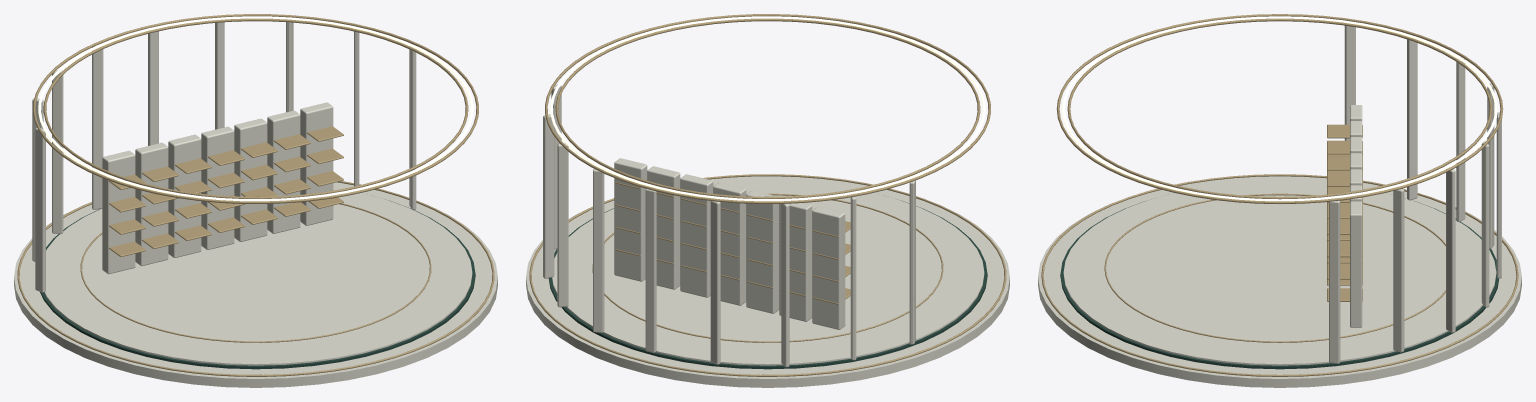
File: surveys.glb
The picture shows the model from 3 angles, left to right: view 1: azimuth 30°, elevation 25°; view 2: azimuth 150°, elevation 25°; view 3: azimuth 270°, elevation 25°; orthographic projection.
Parts seen in each view (by area): view 1: surveys; view 2: surveys; view 3: surveys.
Boxes of the visible parts, box(x1,y1,x2,y2) form: surveys: box(14, 14, 497, 387); surveys: box(526, 14, 1009, 387); surveys: box(1038, 14, 1521, 387).
Size of the model in its own units: 10.8 by 4.38 by 10.8.
